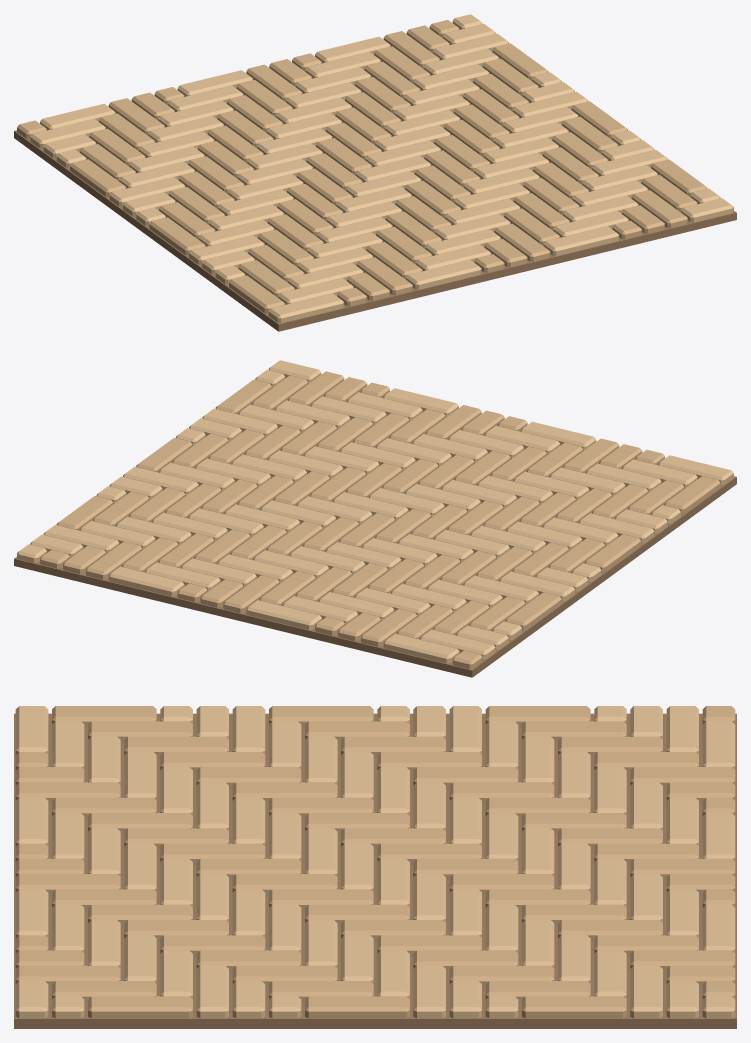
The model's file is floor_herringbone.fbx.
3 renders of one model, top to bottom at view 1: azimuth 30°, elevation 25°; view 2: azimuth 150°, elevation 25°; view 3: azimuth 270°, elevation 25°, orthographic. The views are drawn at different scales.
Parts seen in each view (by area): view 1: Floor; view 2: Floor; view 3: Floor.
Part boxes in pixels (x1,y1,x2,y2): Floor: (14,14,736,331); Floor: (14,360,736,677); Floor: (14,706,736,1028).
Bounding box in the file's own units: 4 × 0.12 × 4.
